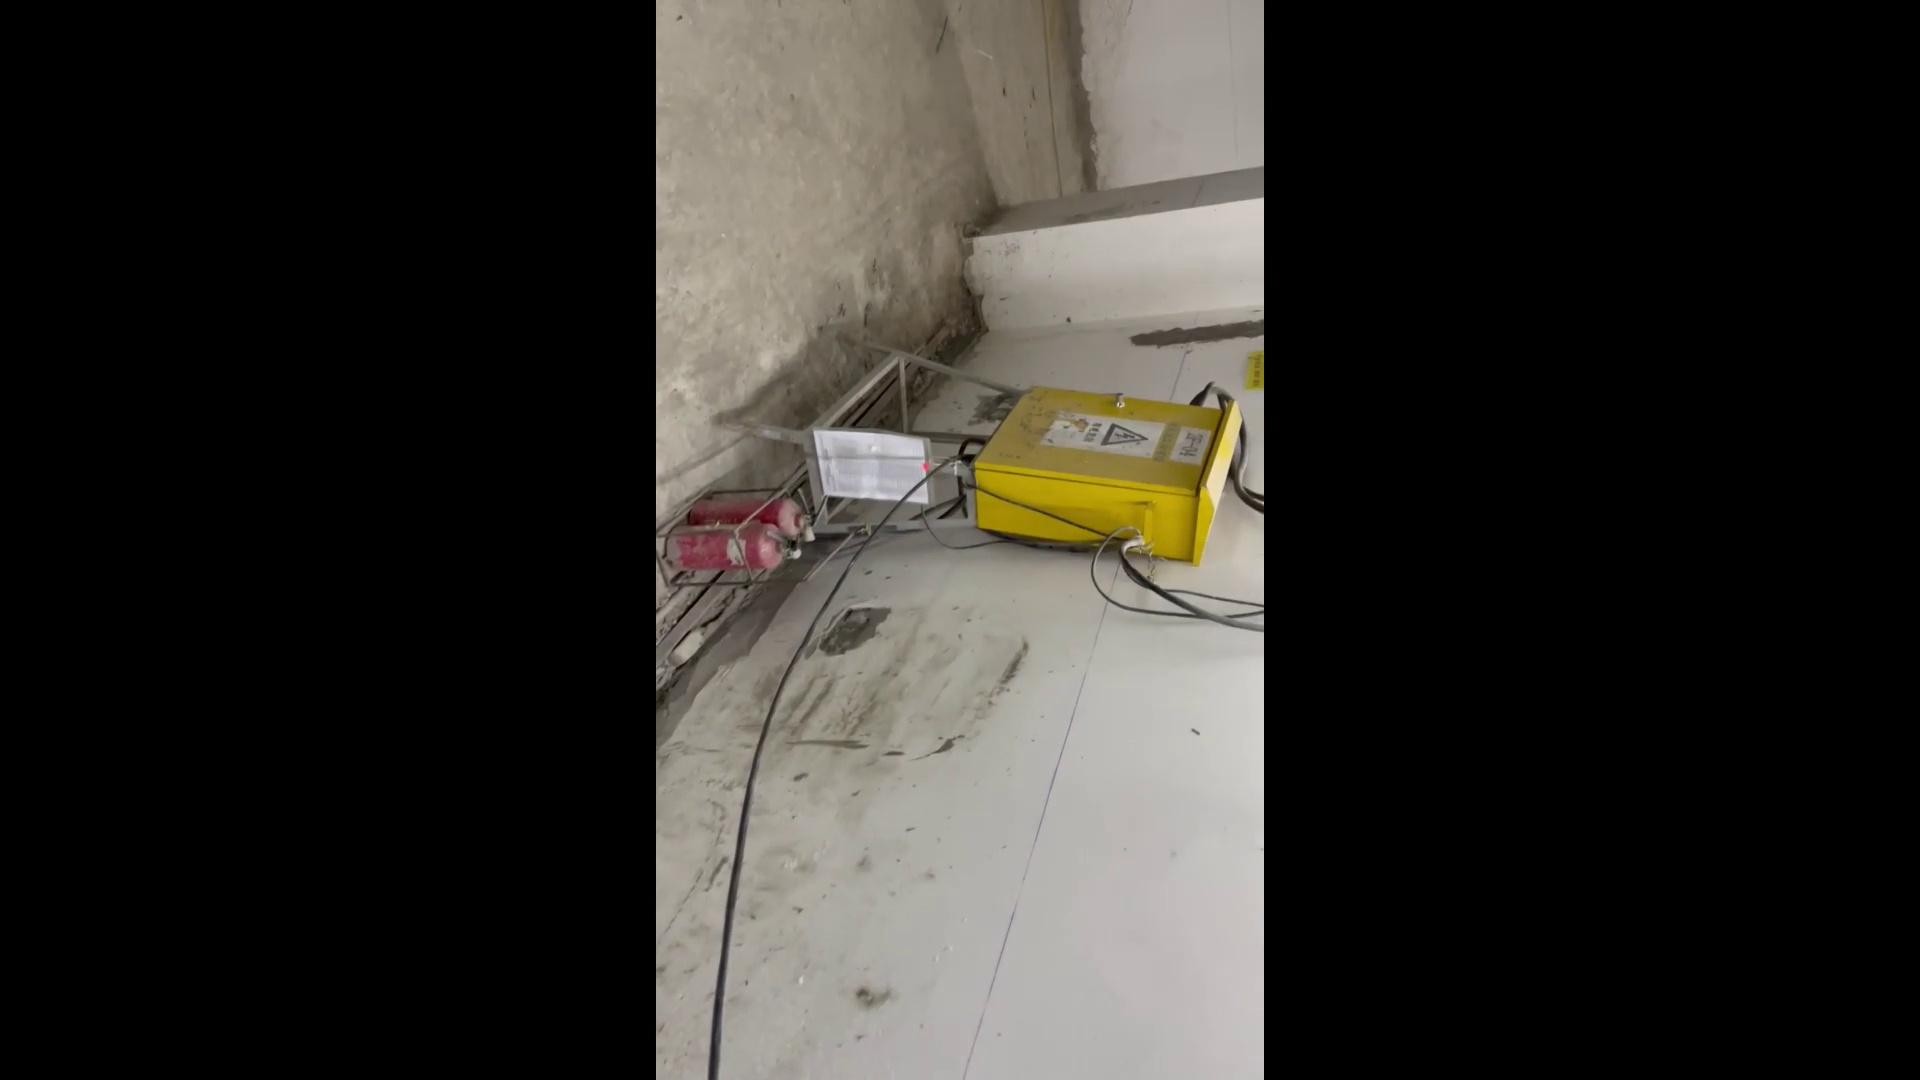ebox: (711, 305, 1254, 566)
